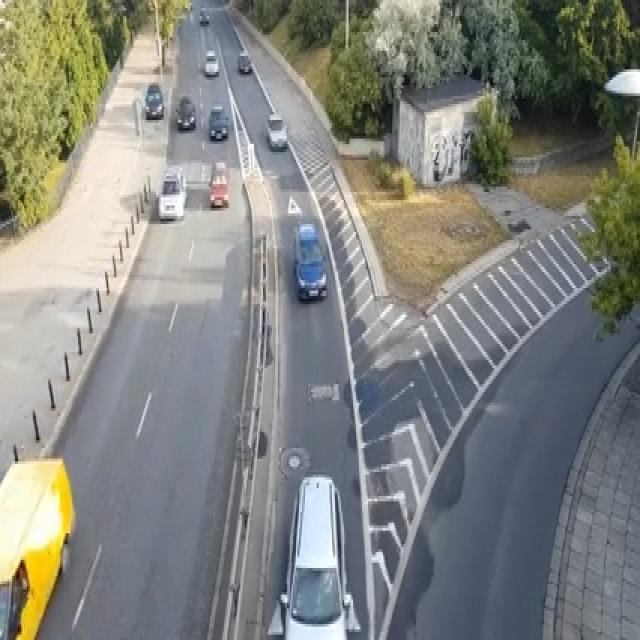bus: (266, 472, 360, 637), (0, 453, 74, 638)
car: (293, 222, 327, 302), (158, 165, 186, 219), (209, 160, 228, 205), (266, 112, 287, 149), (208, 104, 228, 139), (144, 83, 164, 117), (176, 96, 195, 128), (204, 48, 218, 75), (237, 48, 251, 72), (198, 5, 209, 24)
